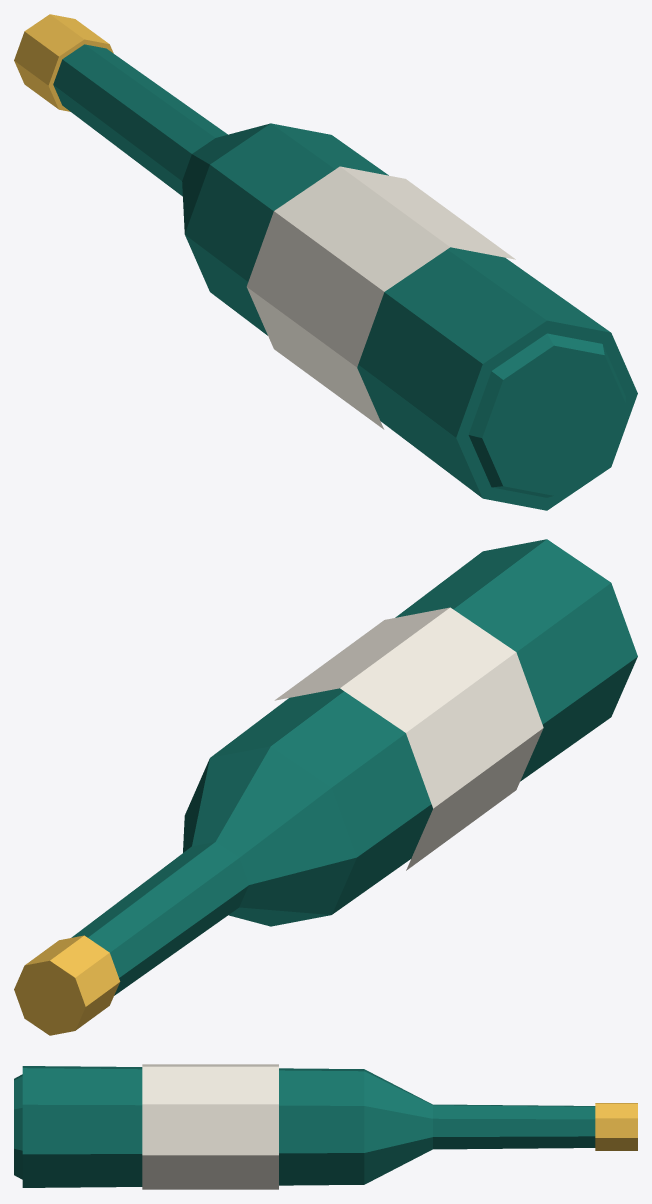
File: bottle.glb
The picture shows the model from 3 angles, top to bottom: view 1: azimuth 30°, elevation 25°; view 2: azimuth 150°, elevation 25°; view 3: azimuth 270°, elevation 25°; orthographic projection. The views are drawn at different scales.
Visible parts, largest first — view 1: bottle_mesh; view 2: bottle_mesh; view 3: bottle_mesh.
Boxes of the visible parts, x1,y1,x2,y2 form: bottle_mesh: [14, 14, 637, 510]; bottle_mesh: [14, 539, 637, 1035]; bottle_mesh: [14, 1064, 637, 1189].
Size of the model in its own units: 0.078 by 0.078 by 0.365.
Materials: 1 (1 with a texture image).
